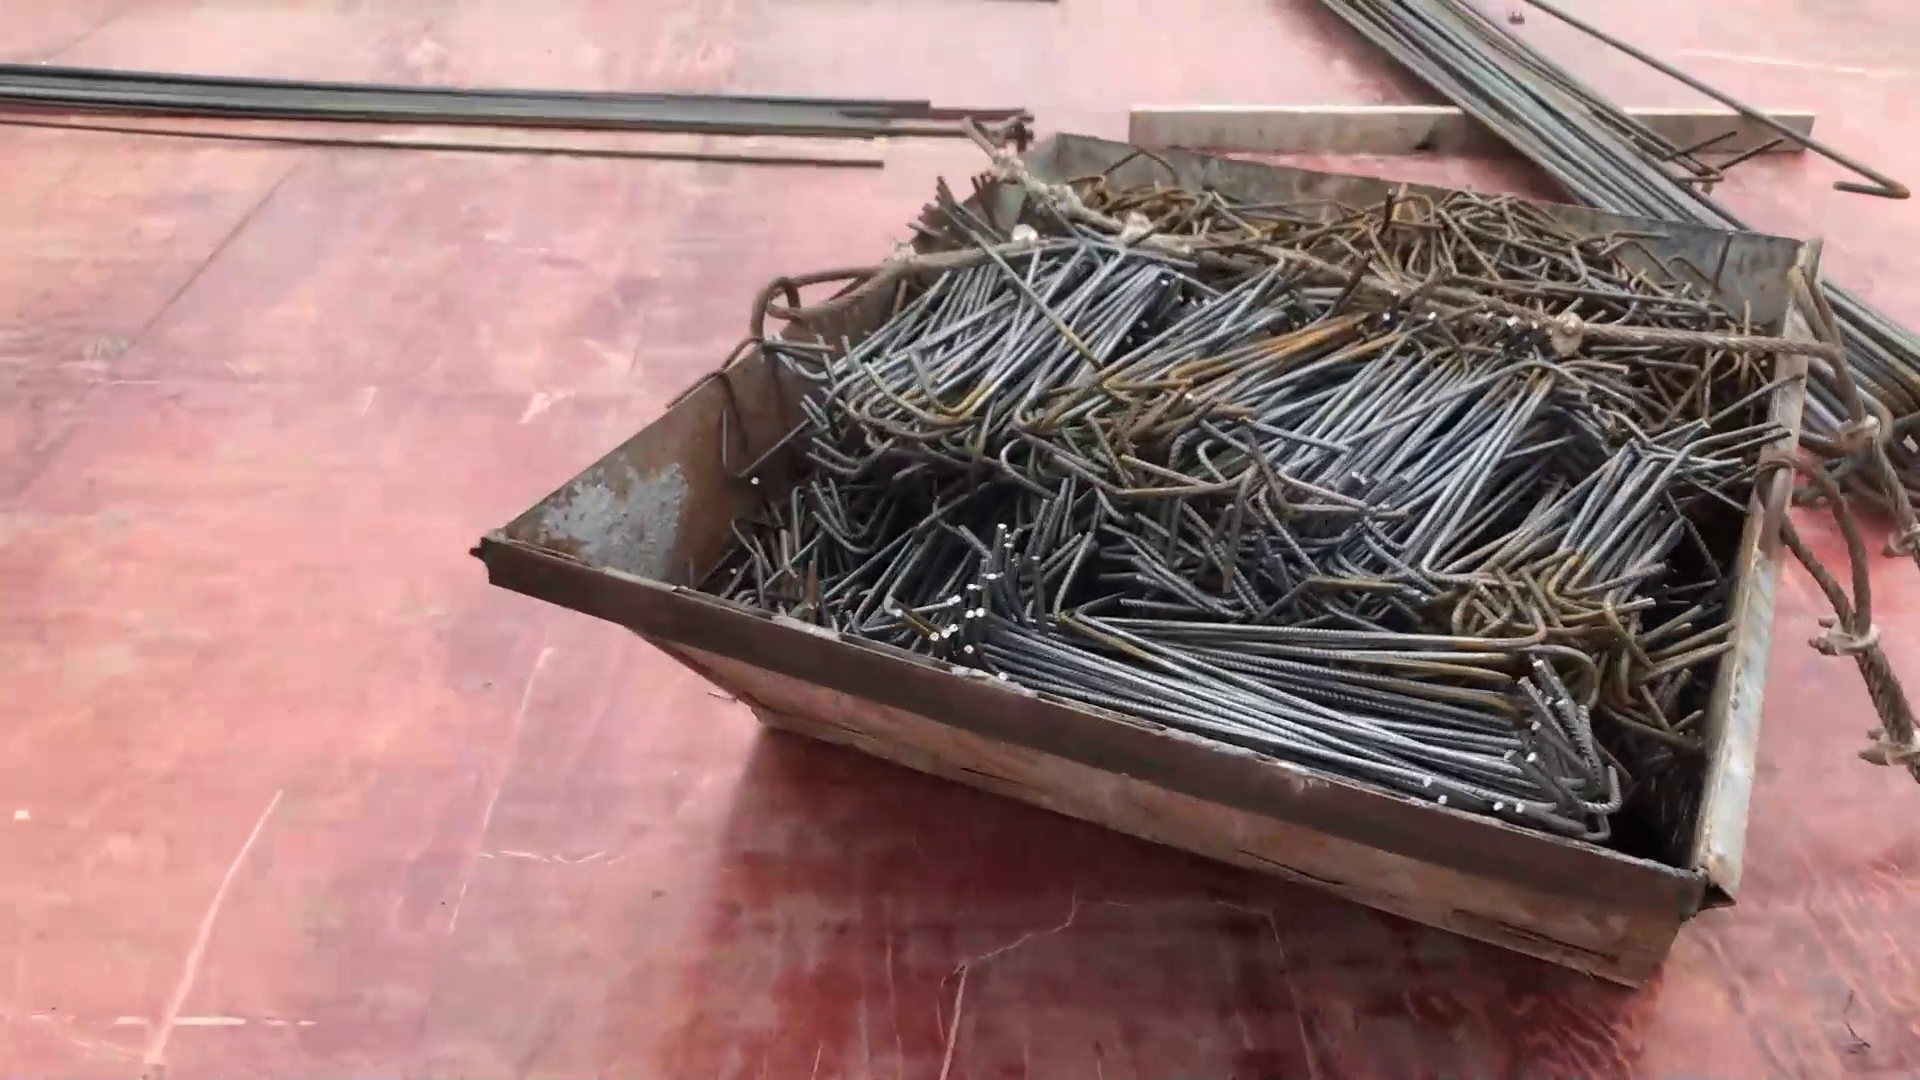hopper: (455, 121, 1825, 986)
rebar: (1303, 7, 1920, 498)
